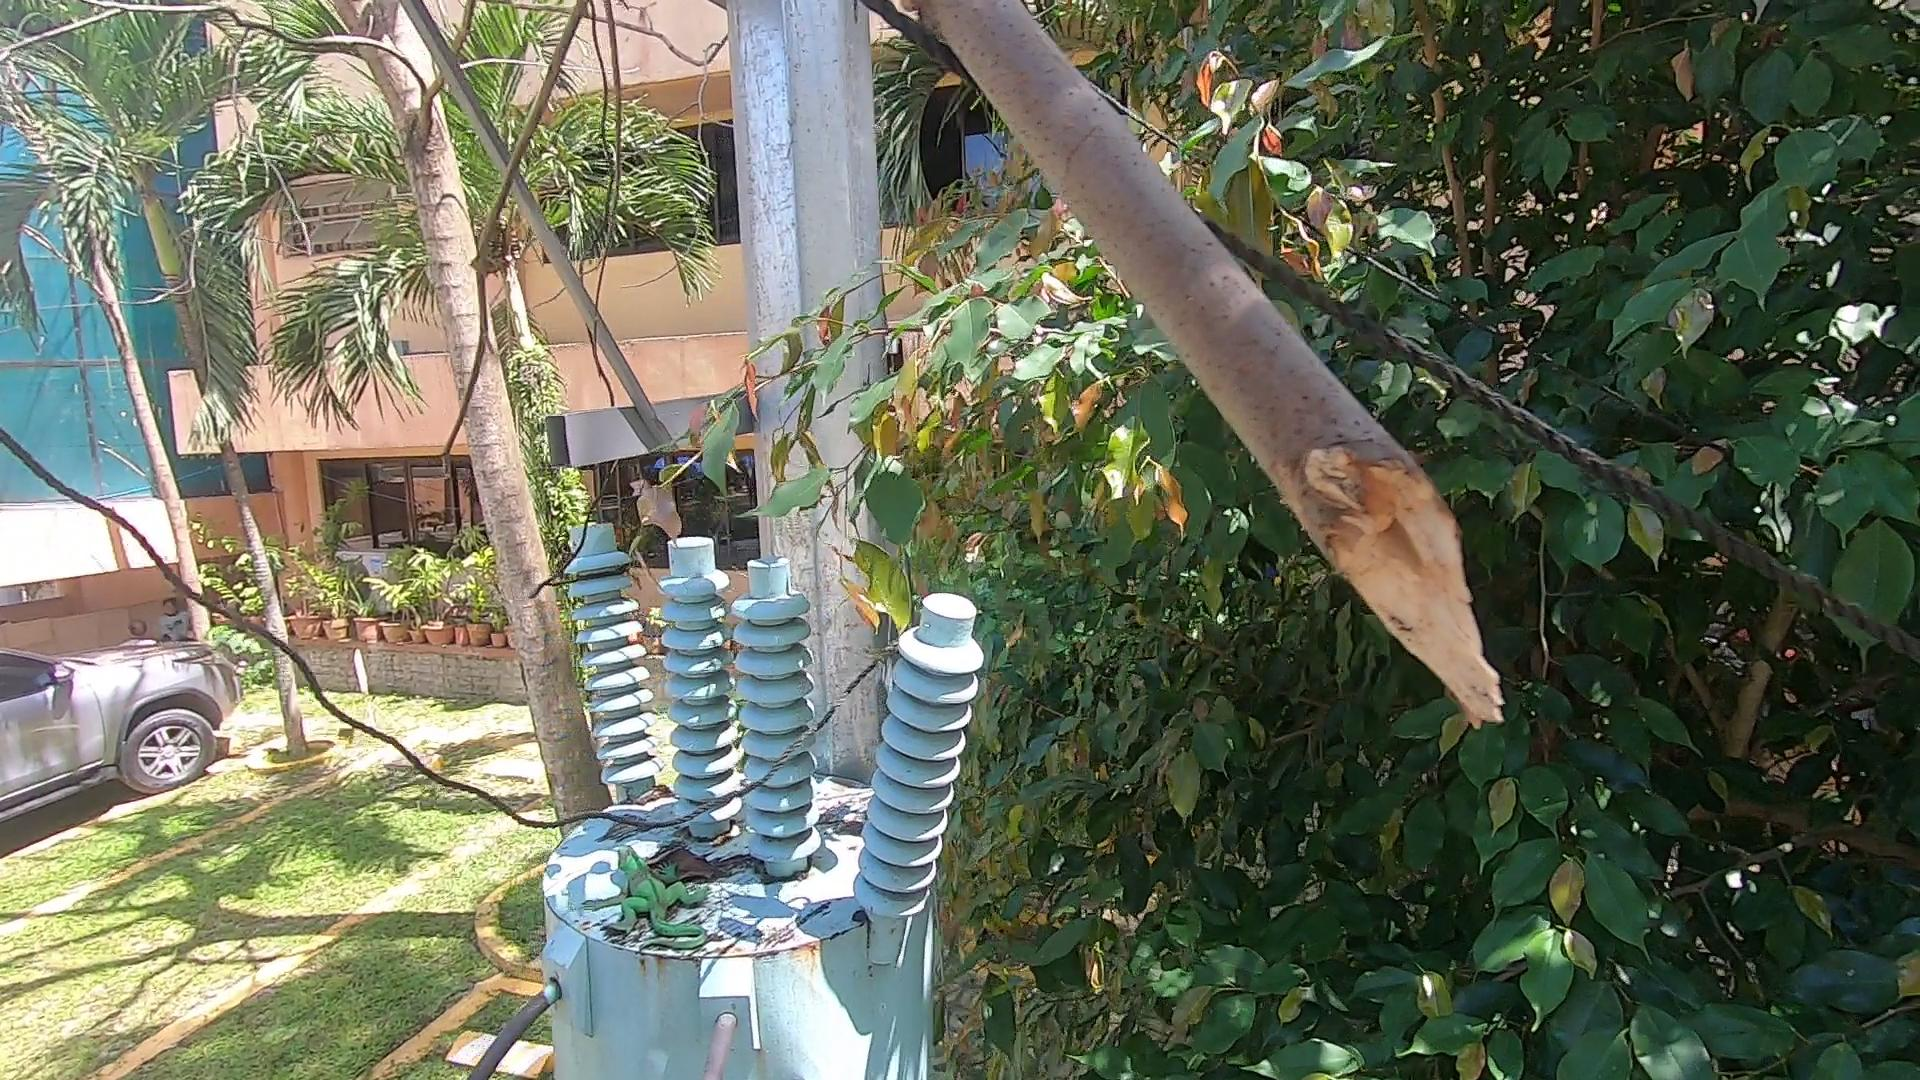leaf: (651, 309, 956, 670), (655, 836, 778, 897), (820, 804, 872, 851), (626, 775, 678, 816)
tree branch: (460, 18, 1557, 723)
